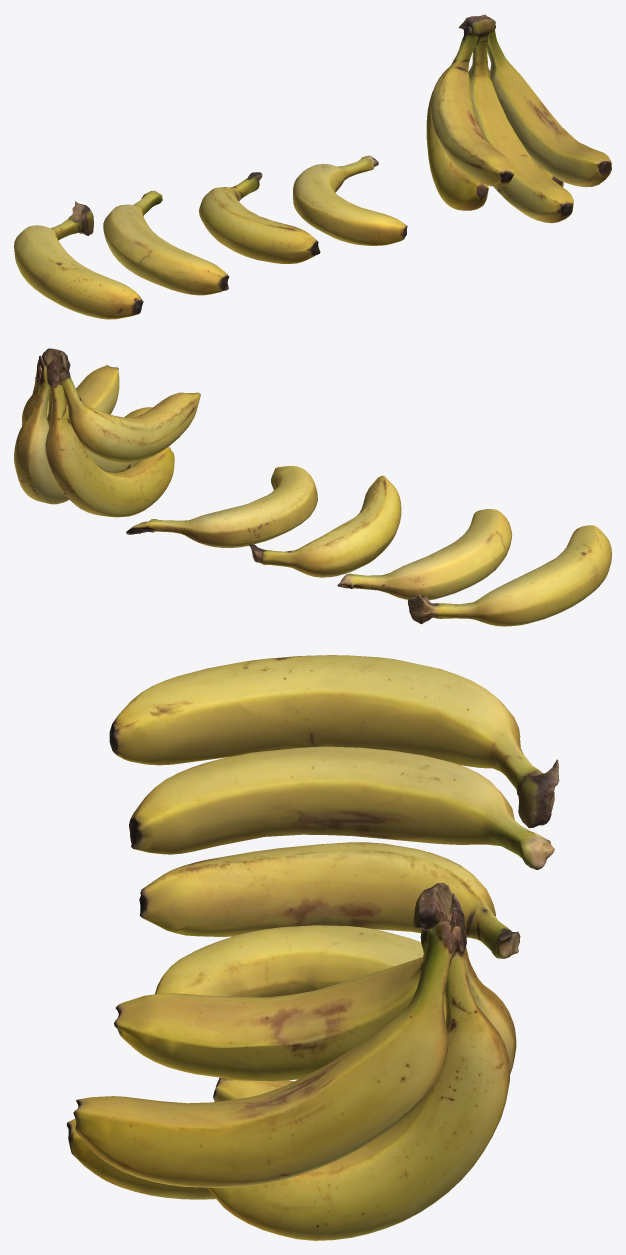
File: bananas.glb
The picture shows the model from 3 angles, top to bottom: view 1: azimuth 30°, elevation 25°; view 2: azimuth 150°, elevation 25°; view 3: azimuth 270°, elevation 25°; orthographic projection. The views are drawn at different scales.
Visible parts, largest first — view 1: bananas_bunch; view 2: bananas_bunch; view 3: bananas_bunch.
Part boxes in pixels (x1=…): bananas_bunch: x1=14, y1=14, x2=611, y2=319; bananas_bunch: x1=14, y1=348, x2=611, y2=626; bananas_bunch: x1=67, y1=655, x2=559, y2=1240.
Size of the model in its own units: 0.6 by 0.1787 by 0.2441.
Materials: 1 (1 with a texture image).
